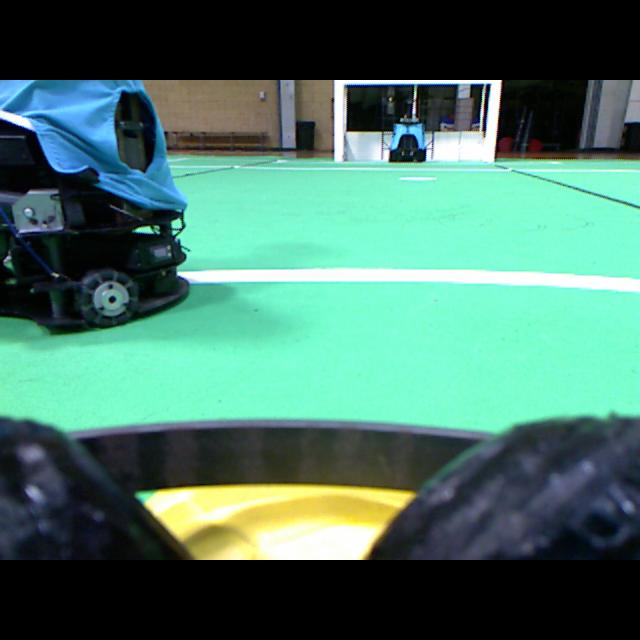ball: (144, 485, 414, 558)
goal: (483, 80, 501, 162), (333, 80, 344, 161)
